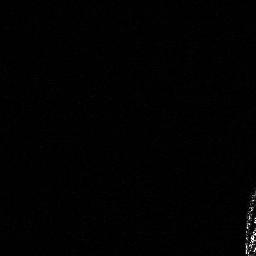ship: (243, 188, 255, 256)
